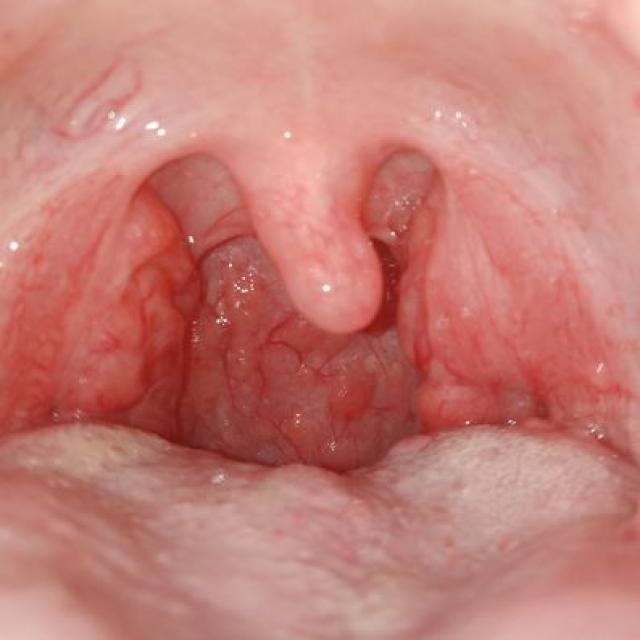Non Pharyngitis: (388, 164, 606, 414), (37, 193, 216, 438)
